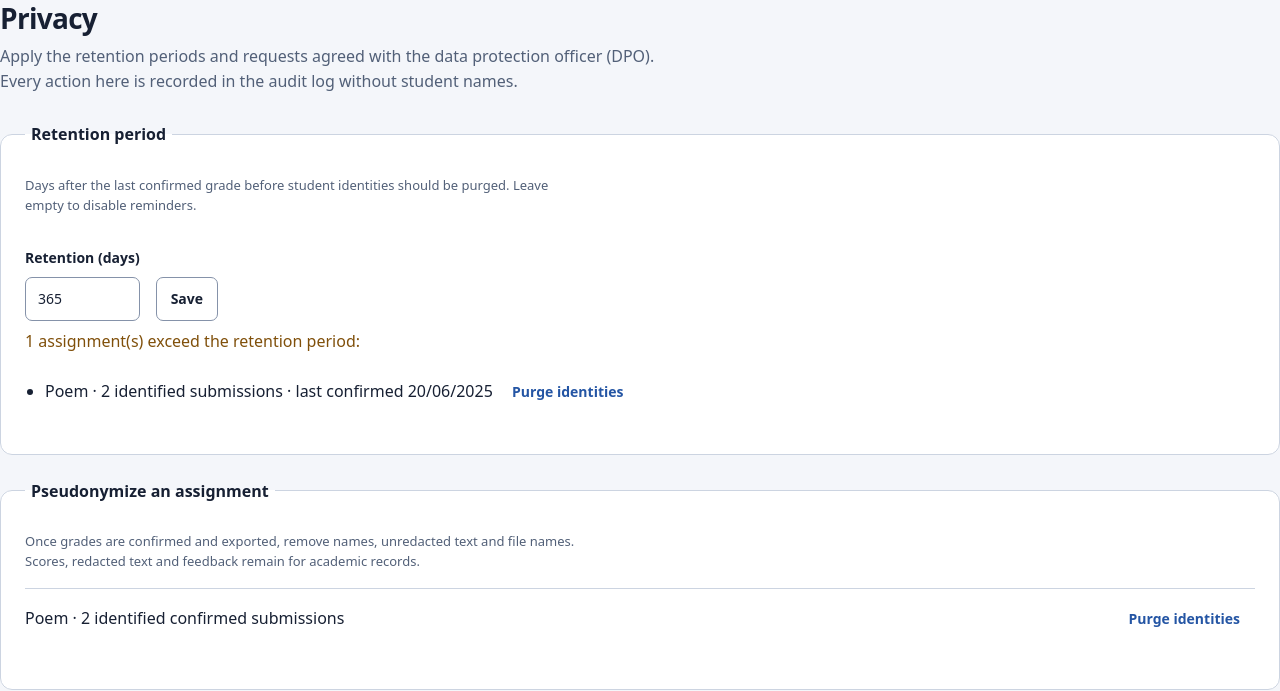
shows overdue assignments and purges identities after confirmation
Expected: the text "1 assignment(s) exceed the retention period:" is shown, top-left (25, 330), bottom-right (360, 352)
Expected: the number field labelled "Retention (days)" holds "365", top-left (25, 277), bottom-right (140, 321)
Click the 1st button "Purge identities" at [568, 392], box top-left (497, 370), bottom-right (638, 414)
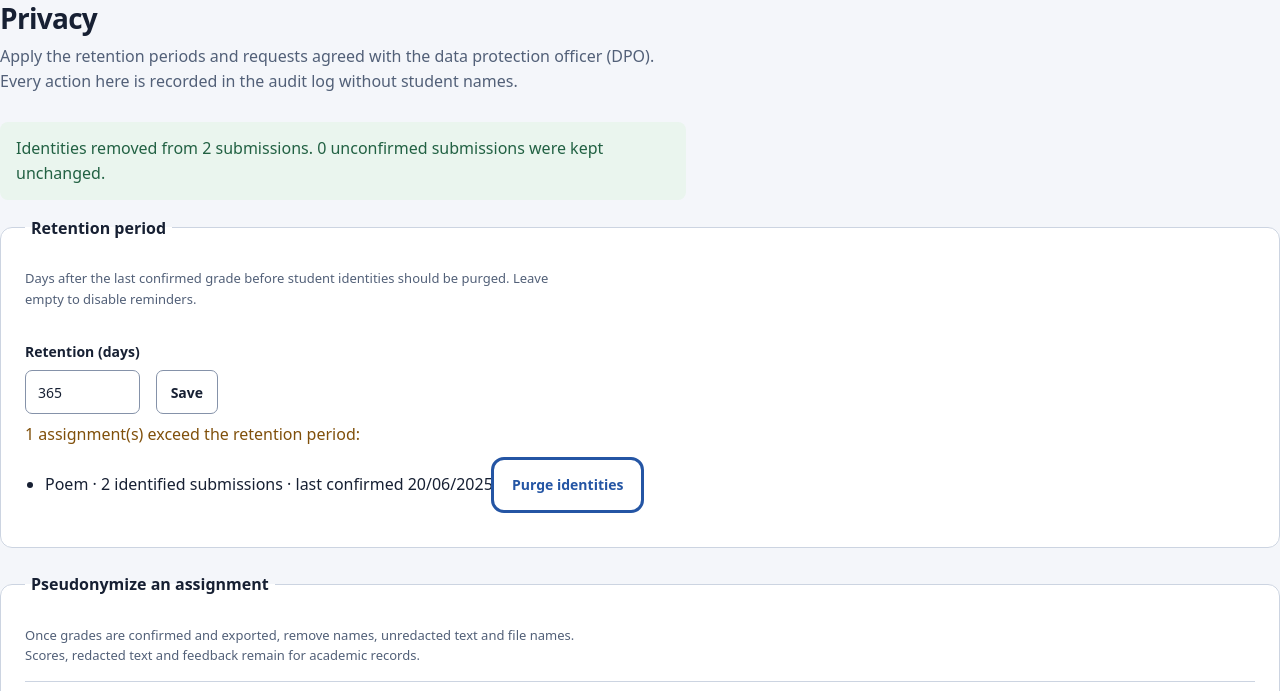
Now the text "Identities removed from 2 submissions" is shown, box top-left (16, 137), bottom-right (603, 184)
